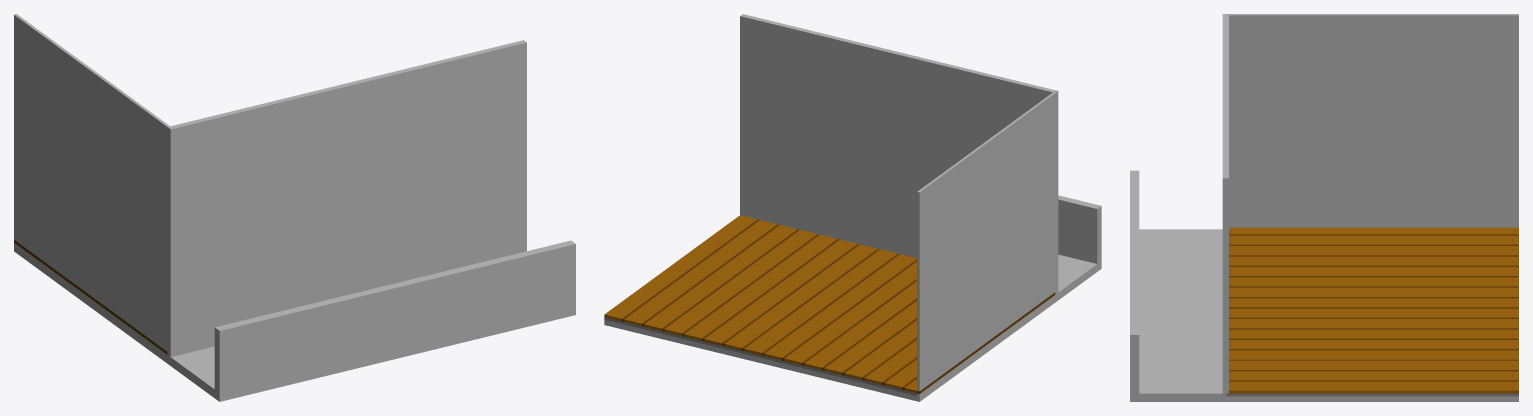
Rendered from 4x2 fourth (1)-1.obj.
3 renders of one model, left to right at view 1: azimuth 30°, elevation 25°; view 2: azimuth 150°, elevation 25°; view 3: azimuth 270°, elevation 25°, orthographic. The views are drawn at different scales.
Visible parts, largest first — view 1: 4x2 fourth (1)-1; view 2: 4x2 fourth (1)-1; view 3: 4x2 fourth (1)-1.
Boxes of the visible parts, bbox=[...] form: 4x2 fourth (1)-1: bbox=[14, 14, 575, 401]; 4x2 fourth (1)-1: bbox=[604, 14, 1101, 401]; 4x2 fourth (1)-1: bbox=[1130, 14, 1518, 401].
Bounding box in the file's own units: 126 × 80 × 126.
Materials: 1 (1 with a texture image).
